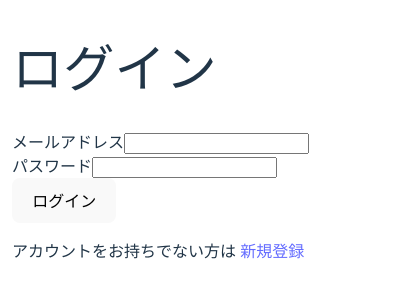
LoginPage › ログイン失敗時にエラーメッセージを表示する
The image size is (412, 304).
Type "wrong@example.com" into the field.
click(216, 143); type("wrong@example.com")  # box [124,133,309,154]
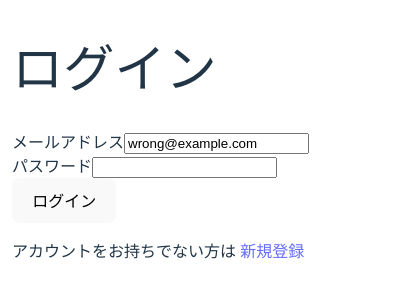
Type "wrongpassword" into the password field.
click(184, 167); type("wrongpassword")  # box [92,157,277,178]
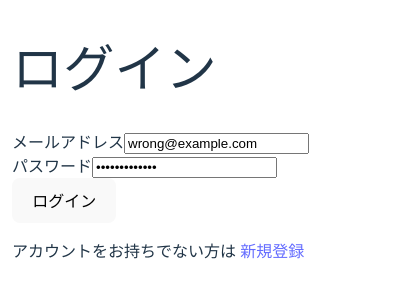
Click the button "ログイン".
click(64, 200)  # box [12,178,116,223]
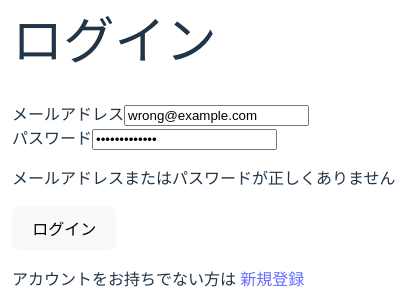
expect the text "メールアドレスまたはパスワードが正しくありません" is shown: met, box [12,166,396,190]
